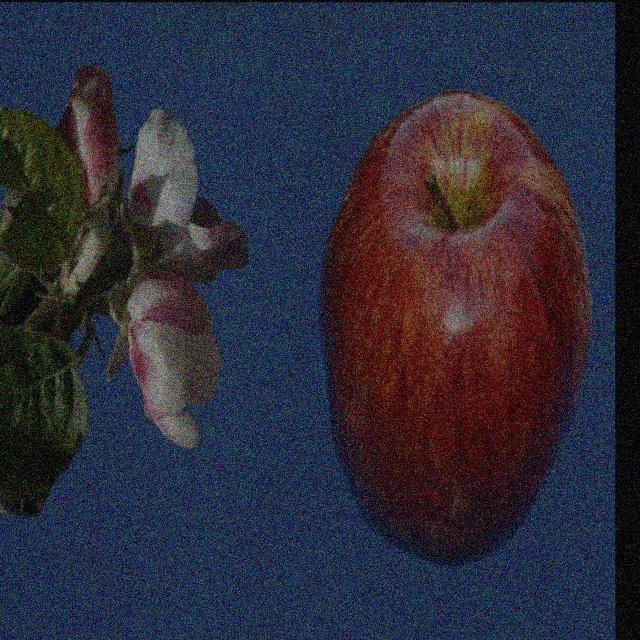red apple: (321, 87, 594, 565)
